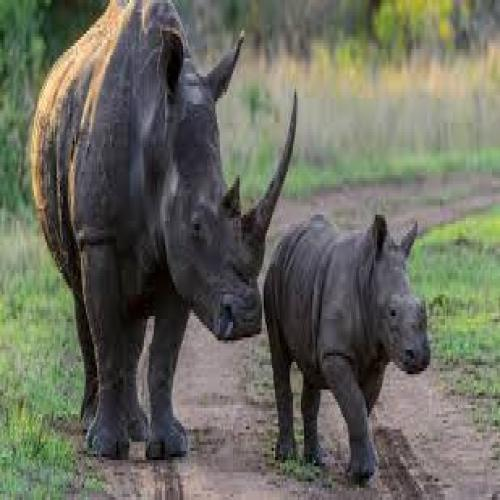rhino-endangered: (29, 0, 300, 460), (263, 210, 432, 482)
